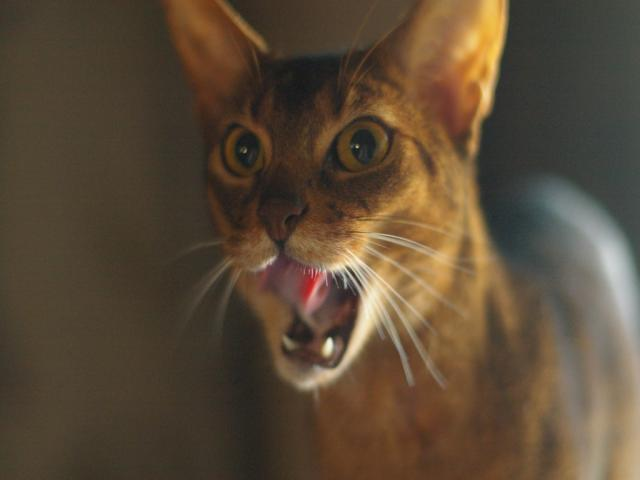Cat: (166, 0, 588, 480)
